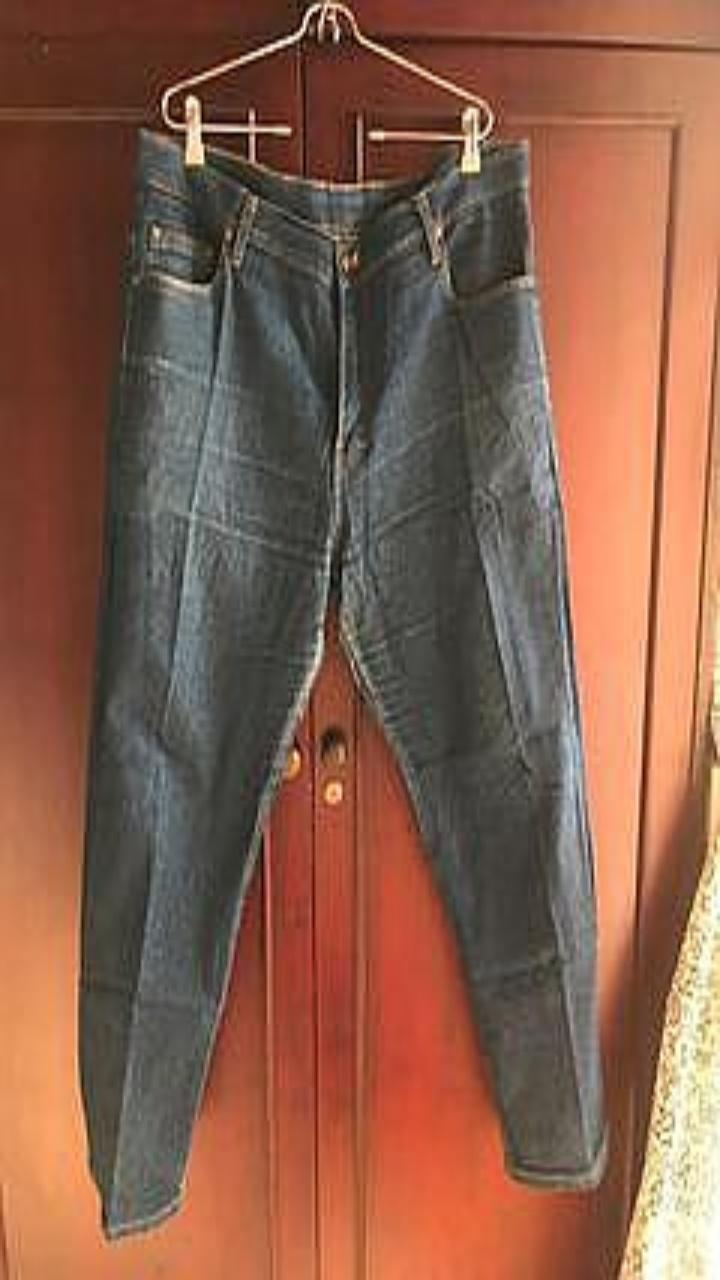Jeans: (79, 128, 608, 1238)
